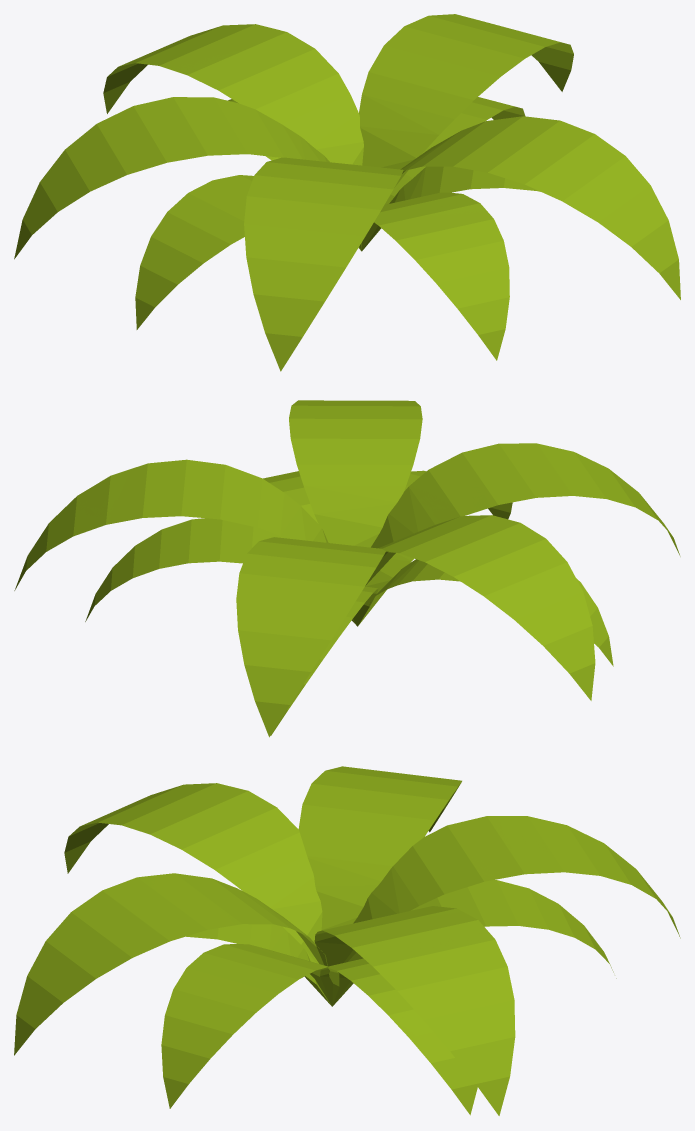
The model's file is Vegetation_Modular_Tree_Foliage_Tropical_Palm_04.fbx.
3 views of the same model, one above another, from view 1: azimuth 30°, elevation 25°; view 2: azimuth 150°, elevation 25°; view 3: azimuth 270°, elevation 25° (orthographic). The views are drawn at different scales.
Parts seen in each view (by area): view 1: Vegetation_Modular_Tree_Foliage_Tropical_Palm_04; view 2: Vegetation_Modular_Tree_Foliage_Tropical_Palm_04; view 3: Vegetation_Modular_Tree_Foliage_Tropical_Palm_04.
Part boxes in pixels (x1=…): Vegetation_Modular_Tree_Foliage_Tropical_Palm_04: x1=14, y1=14, x2=680, y2=371; Vegetation_Modular_Tree_Foliage_Tropical_Palm_04: x1=14, y1=400, x2=680, y2=737; Vegetation_Modular_Tree_Foliage_Tropical_Palm_04: x1=14, y1=766, x2=680, y2=1115.
Bounding box in the file's own units: 188 × 44.27 × 187.
